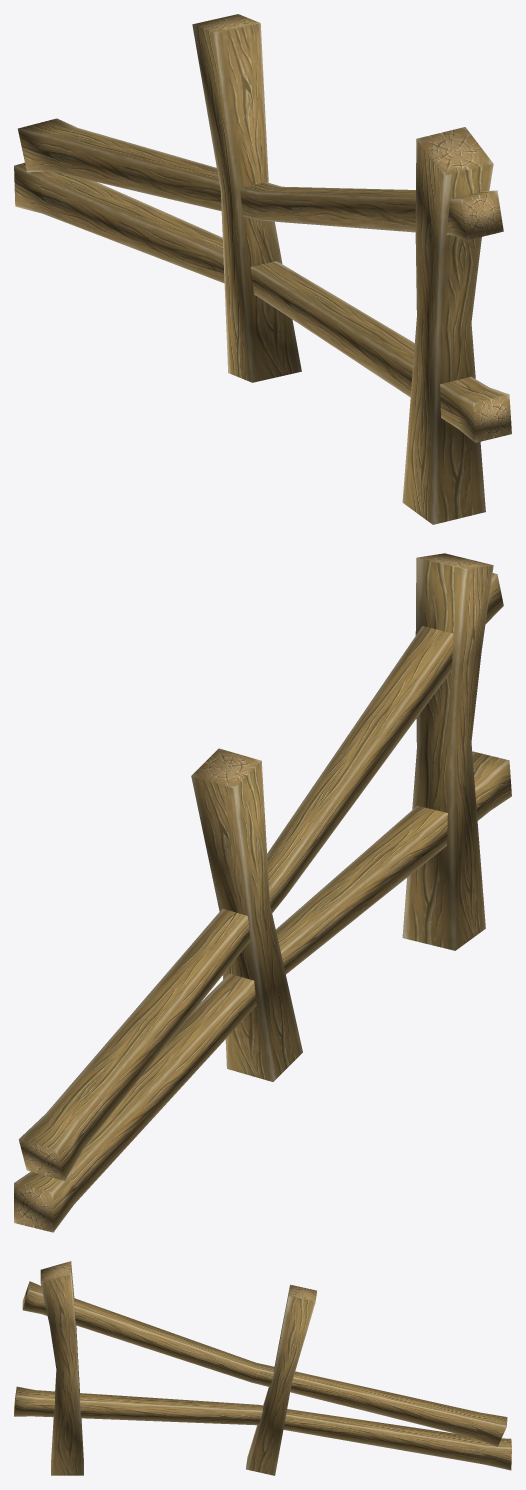
Rendered from fence03.fbx.
The picture shows the model from 3 angles, top to bottom: view 1: azimuth 30°, elevation 25°; view 2: azimuth 150°, elevation 25°; view 3: azimuth 270°, elevation 25°; orthographic projection. The views are drawn at different scales.
Parts seen in each view (by area): view 1: fence03; view 2: fence03; view 3: fence03.
Part boxes in pixels (x1,y1,x2,y2): fence03: (14, 14, 511, 524); fence03: (14, 553, 511, 1232); fence03: (14, 1261, 511, 1475).
Bounding box in the file's own units: 0.1886 × 1.27 × 2.85.
